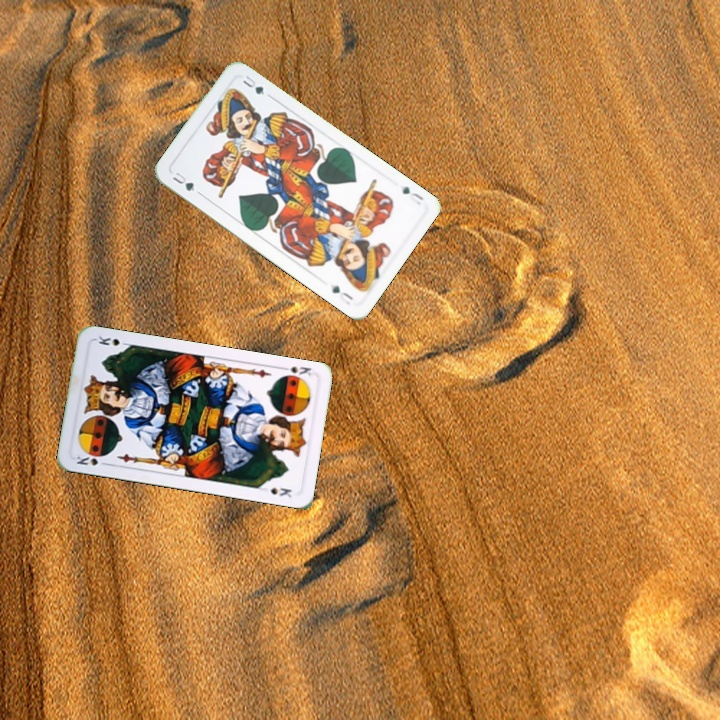GU: (168, 168, 203, 197), (398, 182, 427, 207)
SK: (72, 450, 111, 468), (277, 362, 314, 379)
